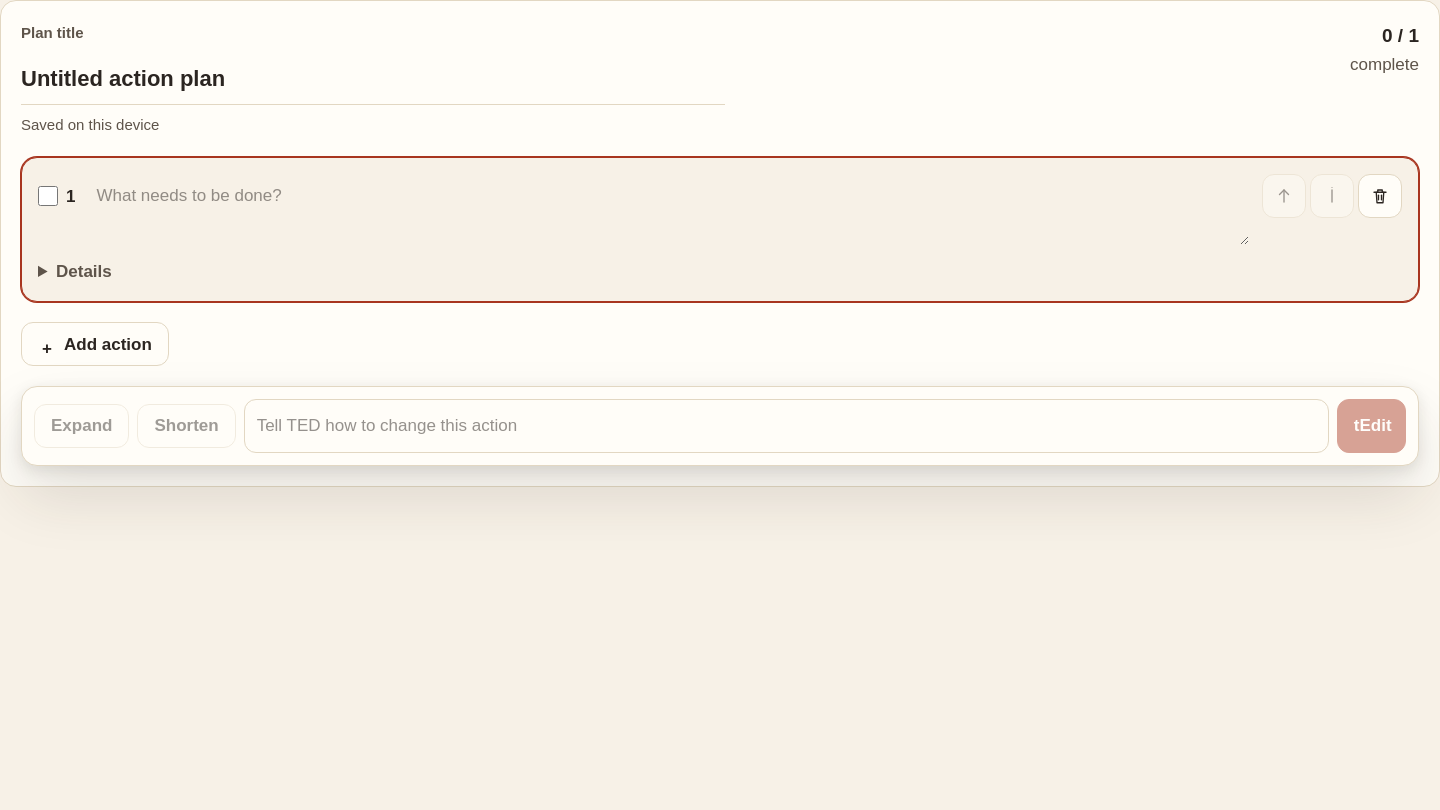
Test: ManualPlanEditor recovery controls › retries failed device storage with the same unsaved fields and identity
Type "Keep the unsaved draft" into the text box named "Action 1" at (669, 210), box [88, 174, 1250, 246]
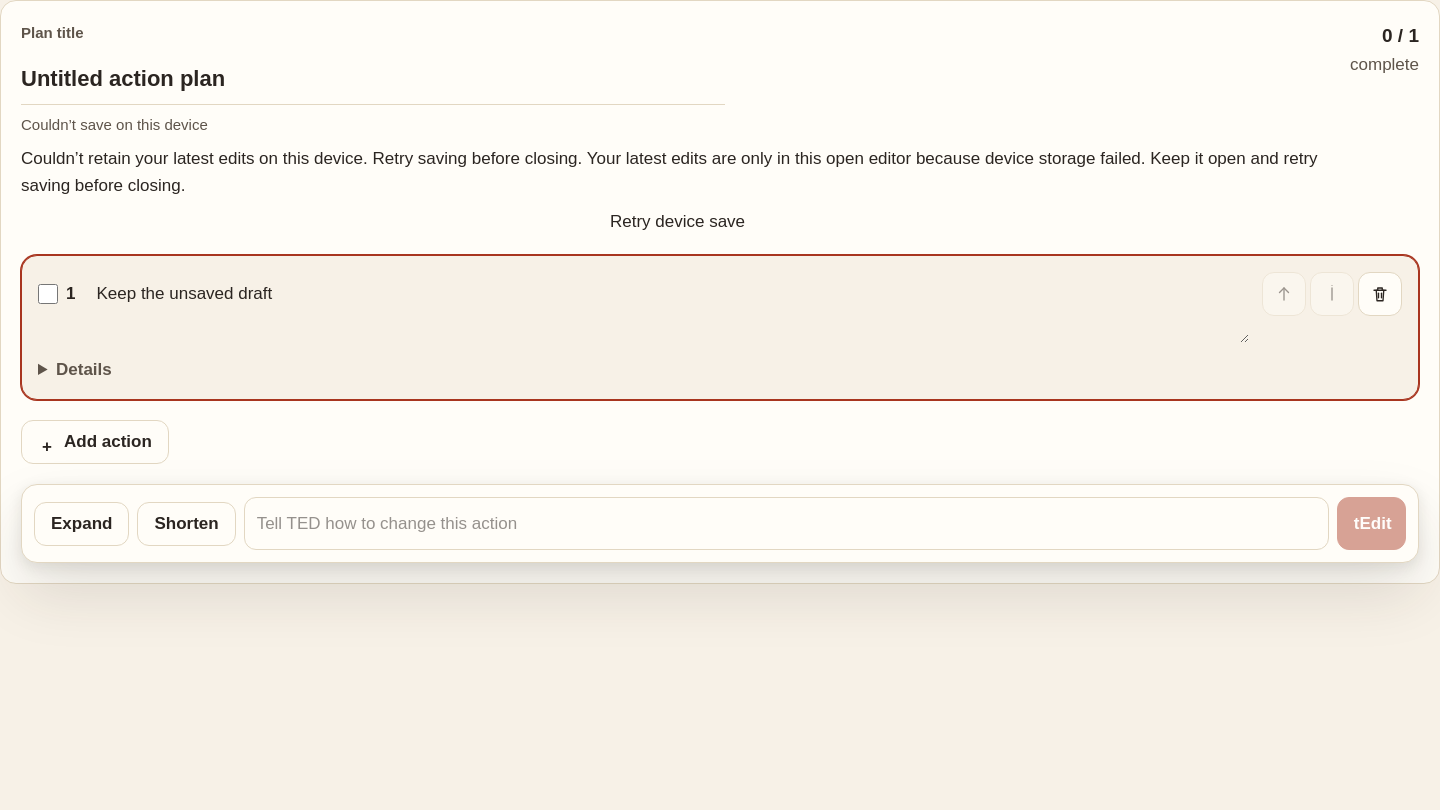
expect the text "Couldn’t save on this device" is shown: met, box [21, 116, 208, 133]
Click the button "Retry device save" at (678, 221), box [21, 208, 1334, 235]
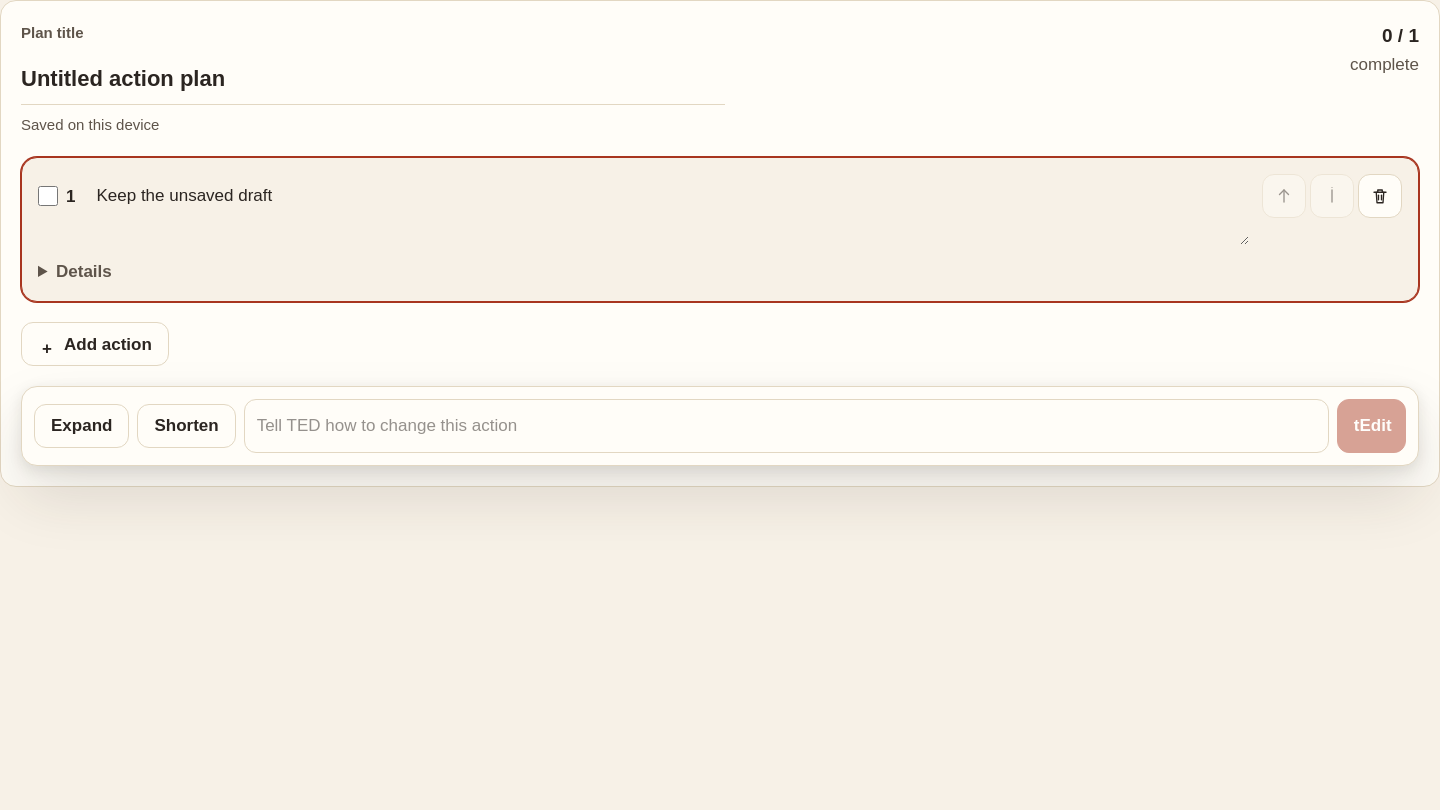
expect the text "Saved on this device" is shown: met, box [21, 116, 159, 133]
